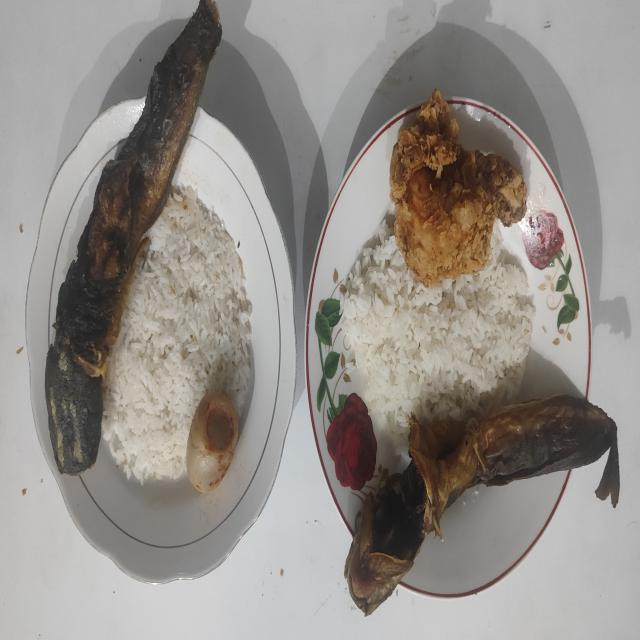nasi_putih: (341, 220, 535, 454), (102, 185, 252, 483)
